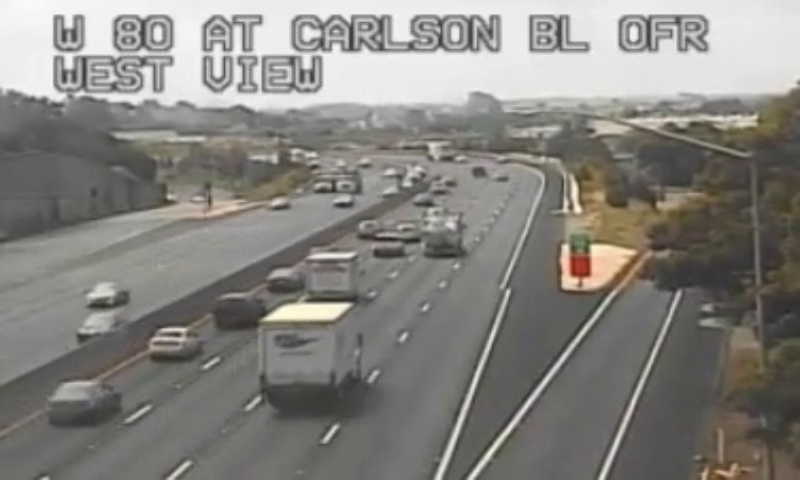car: (46, 380, 121, 420), (214, 294, 265, 330), (148, 326, 200, 359), (263, 267, 304, 292)
small-truck: (255, 303, 359, 404), (302, 250, 359, 303)
